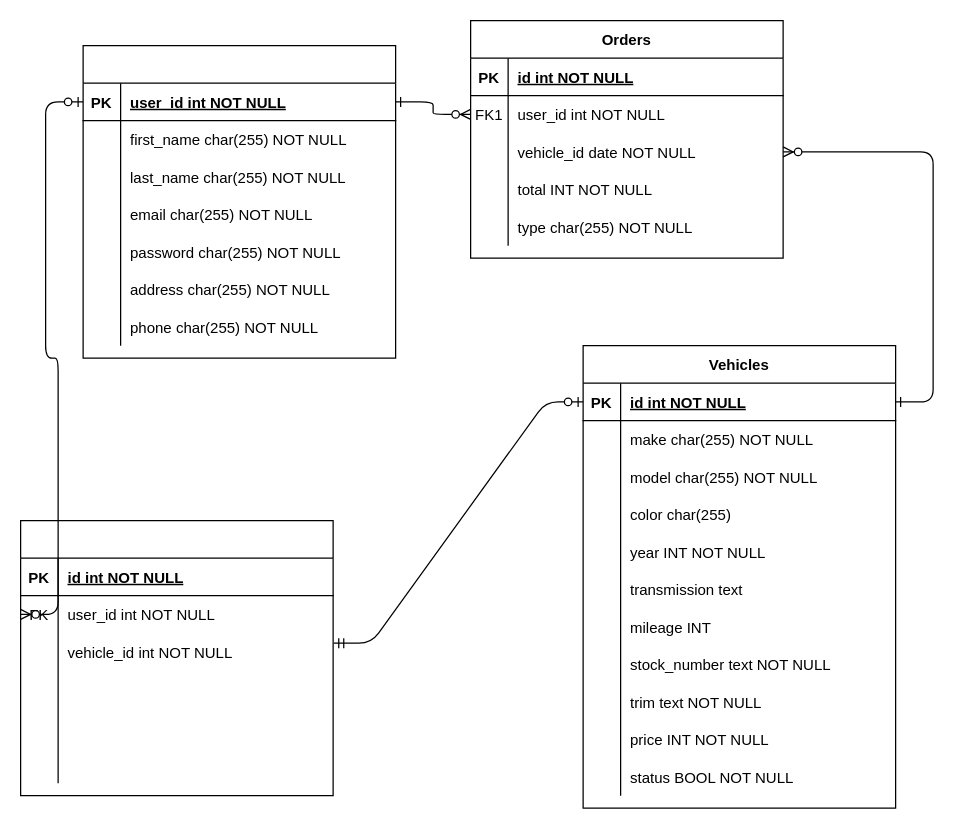
Image size: 954x829. Some labels were removed from this diagram. Each missing label, with the box of its shape:
Garage: (19, 519, 333, 796)
Users: (82, 44, 396, 358)
